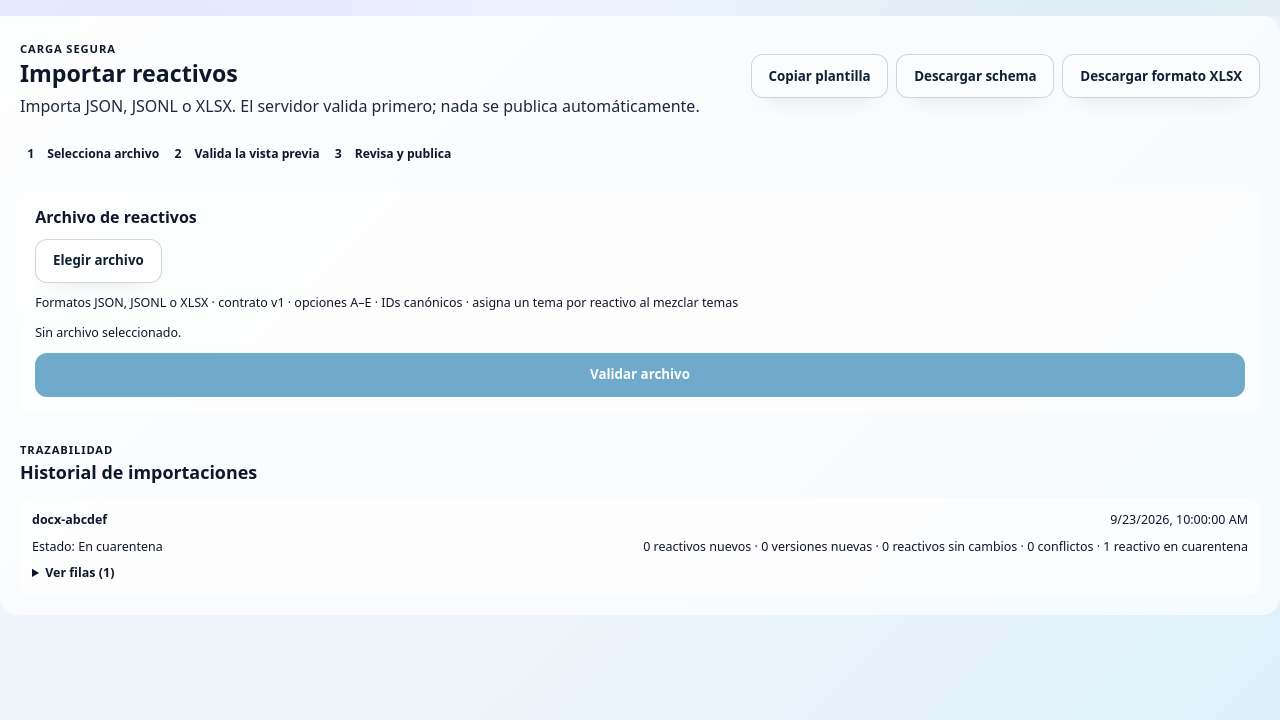
Scenario: BancoImportacionReactivos › expone en el historial las filas DOCX en cuarentena y sus motivos
The image size is (1280, 720).
Check: the text "docx-abcdef" is shown, box [32, 510, 107, 530]
Check: the text "1 reactivo en cuarentena" is shown, box [643, 538, 1248, 555]
Click the heading "Ver filas (1)" at (80, 573), box [45, 564, 114, 581]
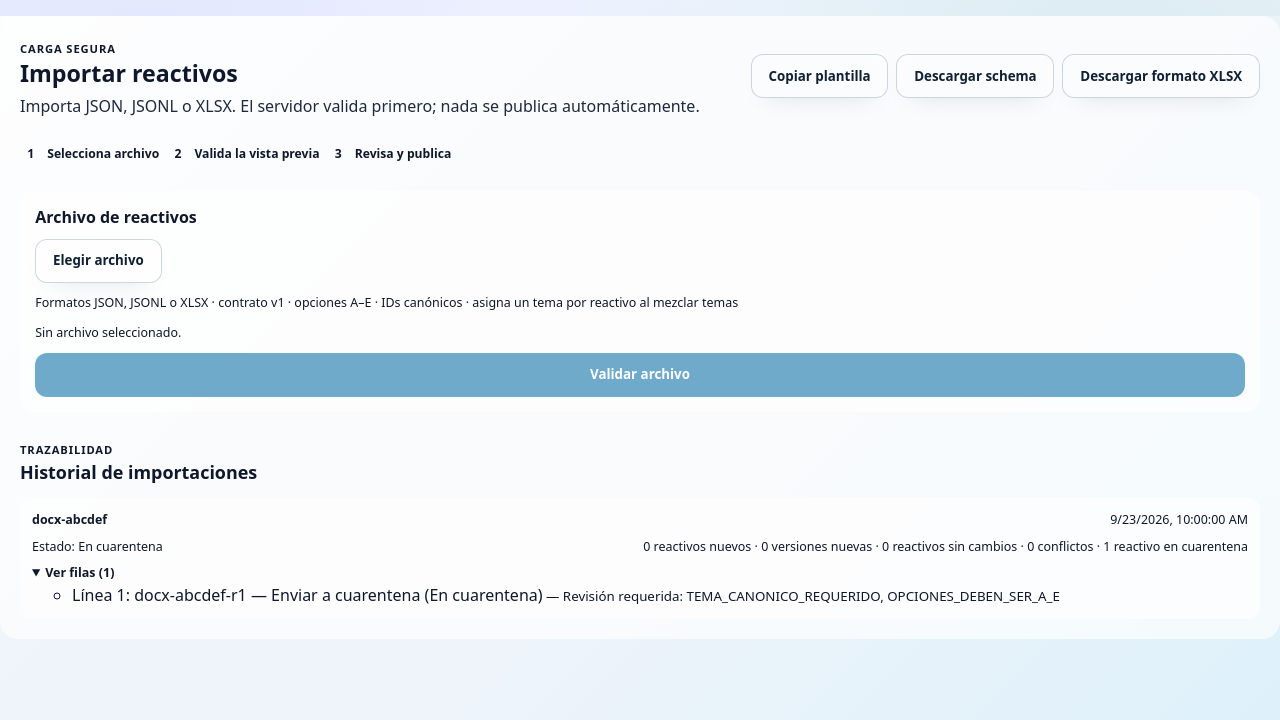
Check: the text "Revisión requerida: TEMA_CANONICO_REQUERIDO, OPCIONES_DEBEN_SER_A_E" is shown, box [543, 587, 1060, 605]
